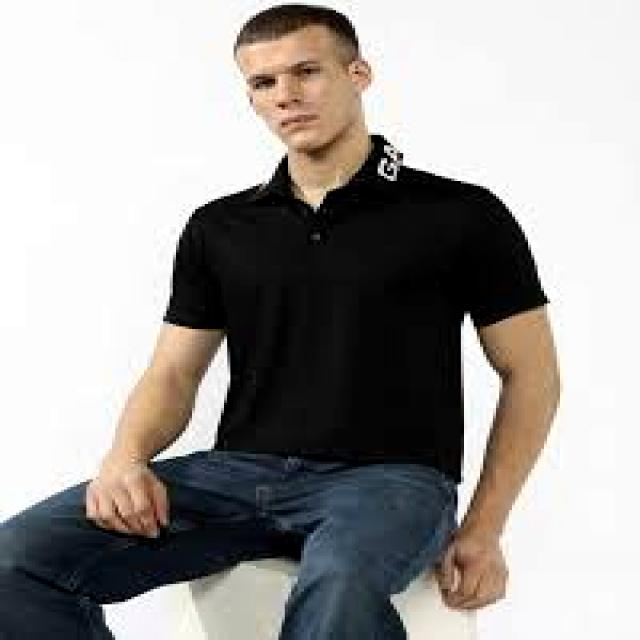face: (237, 26, 371, 152)
lower-wear: (0, 449, 457, 639)
top-wear: (164, 133, 547, 481)
